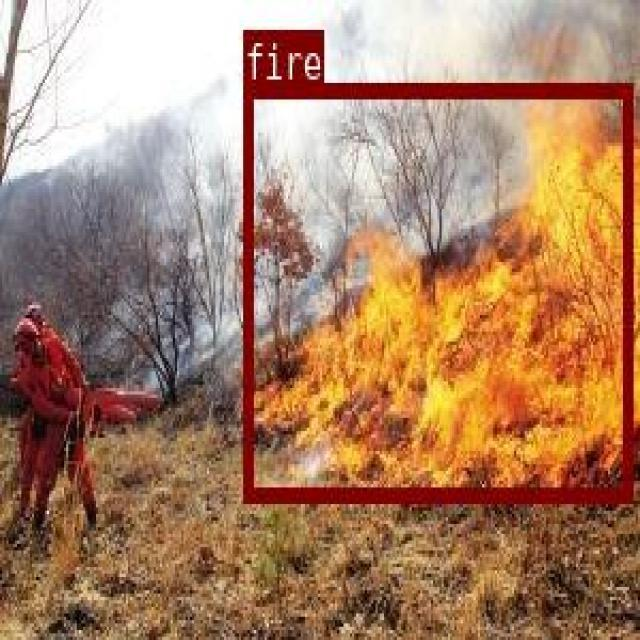fire: (242, 80, 631, 499)
